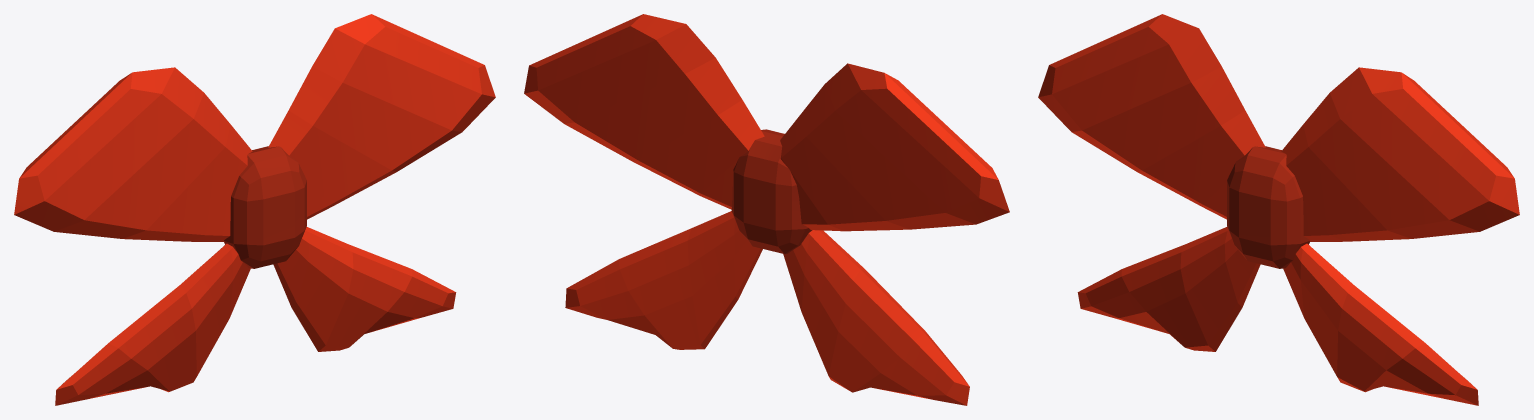
The model's file is Bant.fbx.
The picture shows the model from 3 angles, left to right: view 1: azimuth 30°, elevation 25°; view 2: azimuth 150°, elevation 25°; view 3: azimuth 330°, elevation 25°; orthographic projection.
Visible parts, largest first — view 1: Cube.002; view 2: Cube.002; view 3: Cube.002.
Boxes of the visible parts, left/top/right/bottom form: Cube.002: left=14, top=14, right=495, bottom=405; Cube.002: left=524, top=14, right=1009, bottom=405; Cube.002: left=1038, top=14, right=1519, bottom=405.
Bounding box in the file's own units: 101 × 65.68 × 11.82.
